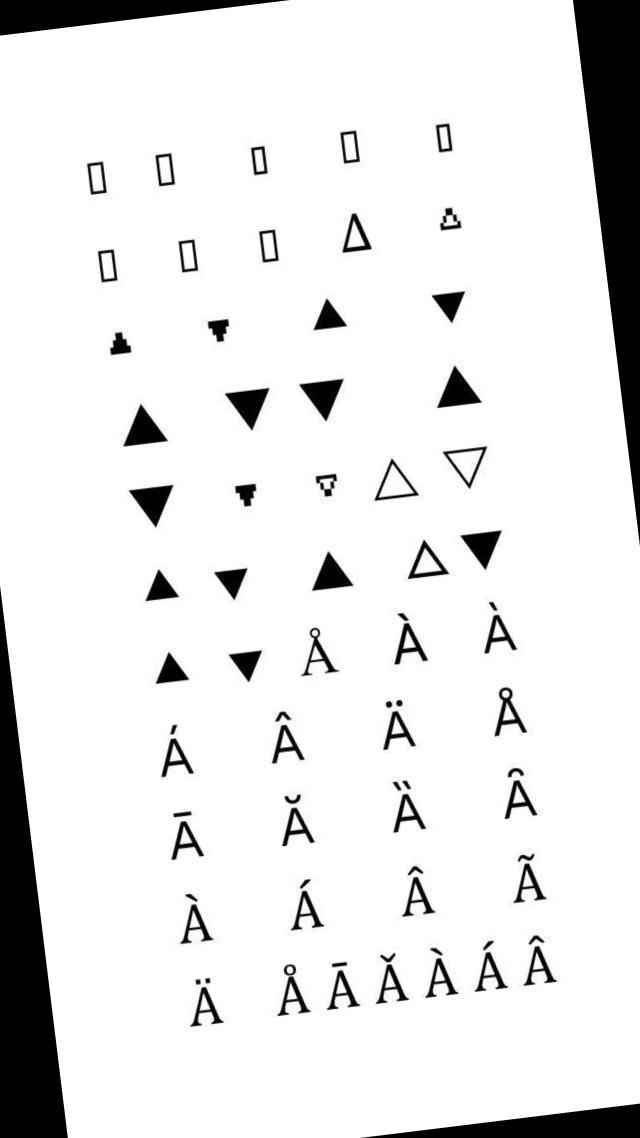ASCII: (247, 704, 310, 775), (289, 366, 356, 432), (377, 601, 435, 676), (217, 376, 282, 442), (420, 354, 485, 418), (152, 802, 214, 868), (142, 716, 200, 786), (174, 962, 228, 1036), (490, 756, 546, 826), (270, 786, 324, 858), (120, 476, 187, 534), (104, 398, 173, 454), (369, 689, 424, 759), (286, 622, 345, 687), (409, 938, 463, 1009), (499, 845, 556, 912), (479, 676, 534, 744), (379, 772, 430, 842), (472, 594, 524, 662), (364, 448, 421, 510), (387, 859, 440, 925), (167, 882, 216, 953), (453, 519, 511, 578), (280, 872, 330, 938), (362, 945, 412, 1011), (514, 926, 562, 994), (304, 546, 360, 604), (424, 275, 478, 335), (464, 930, 510, 1000), (266, 955, 314, 1020), (439, 439, 496, 493), (316, 954, 362, 1018), (331, 207, 382, 262), (304, 286, 350, 346), (395, 536, 449, 586), (134, 562, 186, 612), (73, 146, 116, 206), (88, 238, 130, 294), (144, 646, 193, 694), (208, 554, 256, 602), (332, 121, 368, 174), (226, 640, 269, 684), (428, 195, 470, 240), (225, 472, 267, 516), (426, 111, 462, 161), (172, 230, 208, 280), (100, 321, 140, 365), (253, 220, 287, 270), (150, 146, 183, 193), (242, 140, 276, 184), (200, 309, 236, 350), (307, 467, 348, 502)
